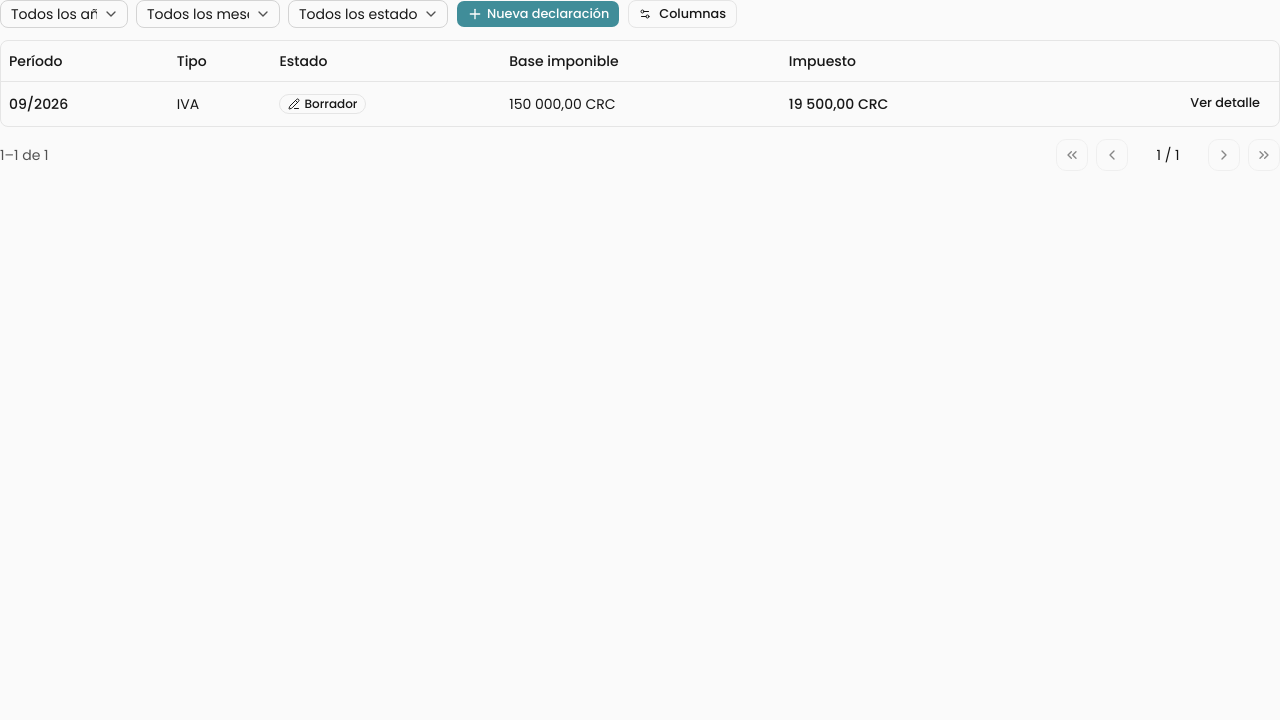
Test: FinanceTaxDeclarations — los botones según el estado › en DRAFT ofrece recalcular y pasar a revisión, y nada más
Click the button "Ver detalle": (1225, 104) left=1179, top=90, right=1271, bottom=118
(page scrolled)
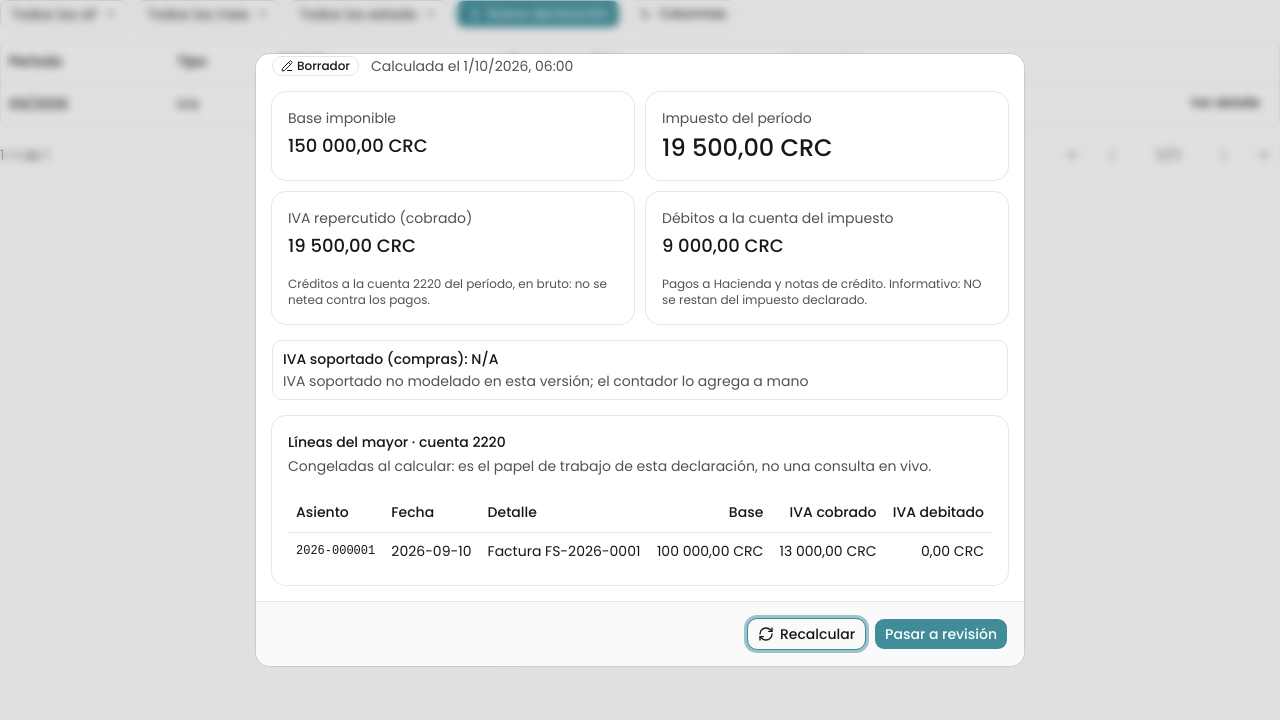
expect the button "Recalcular" is shown: met, box left=747, top=618, right=866, bottom=650
expect the button "Pasar a revisión" is shown: met, box left=874, top=618, right=1008, bottom=650
